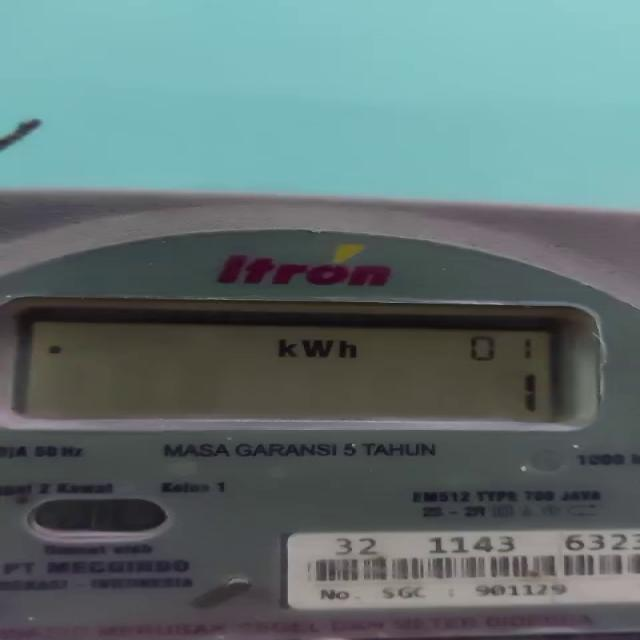LCD: (7, 303, 583, 430)
